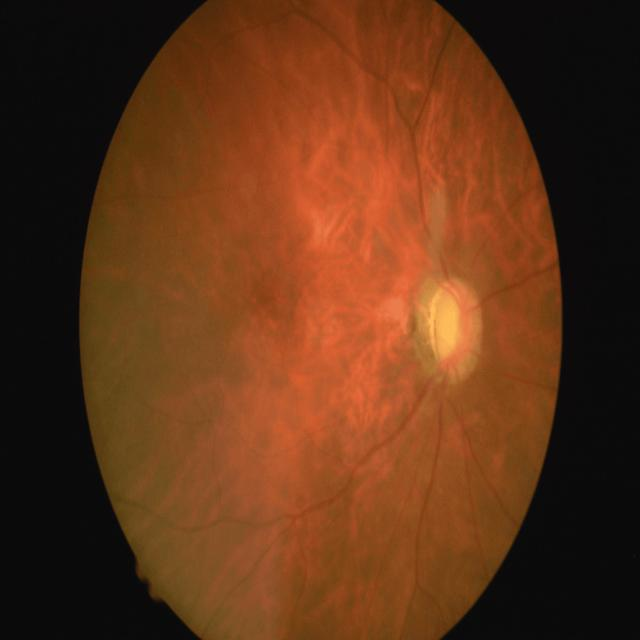cup: (436, 291, 466, 362)
disk: (428, 280, 484, 383)
